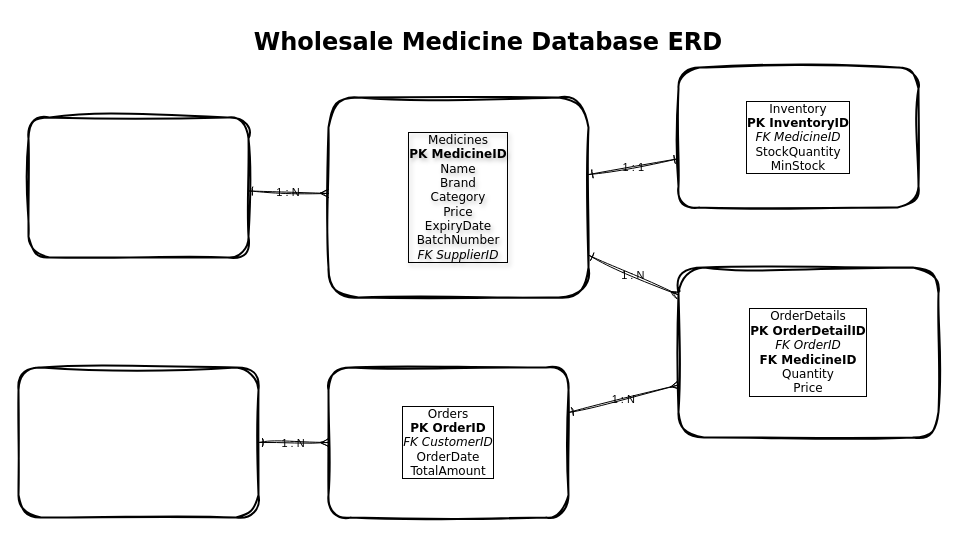
This 956x535 diagram has some shape labels left out. The shapes that lost their labels are listed below. From the top down, each one's centre as x and y in pixels, then its label:
(138,187): Supplier PK SupplierID SupplierName ContactNumber Address
(138,442): Customers PK CustomerID PharmacyName OwnerName Phone Address
